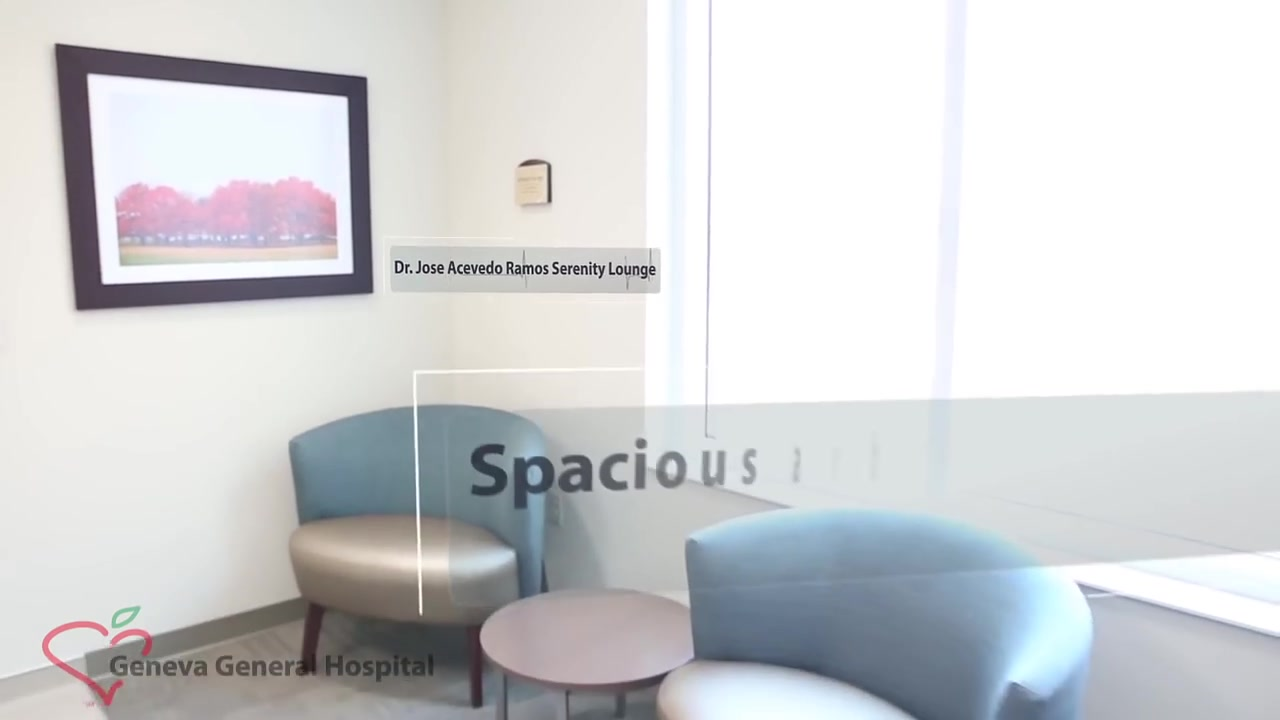sofa: (657, 508, 1097, 720), (286, 407, 548, 708)
table: (479, 587, 694, 720)
